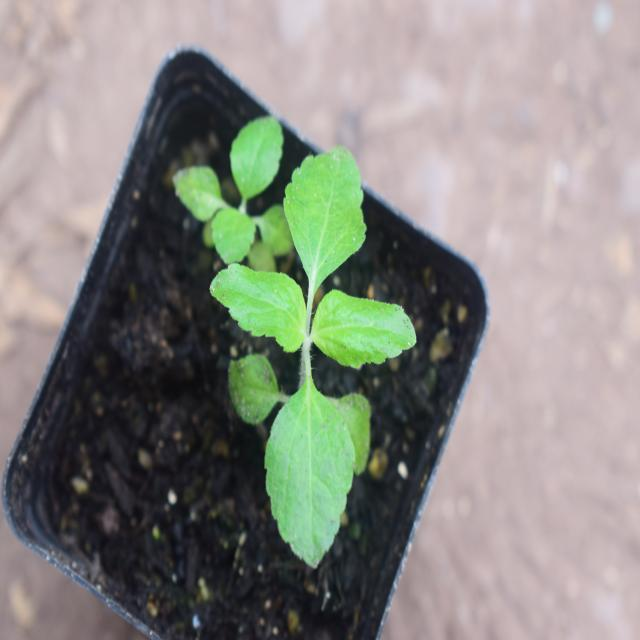billygoat_weed: (220, 128, 403, 559)
